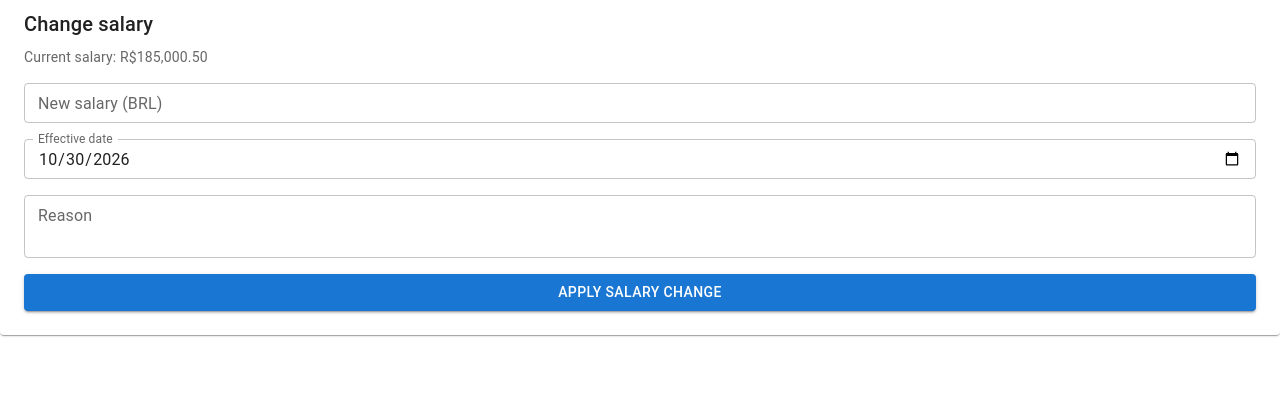
it: SalaryChangeForm › surfaces a server-side 422 on the relevant field
The width and height of the screenshot is (1280, 418).
Type "200000" into the number field labelled "New salary (BRL)" at (640, 103), box [24,83,1256,123]
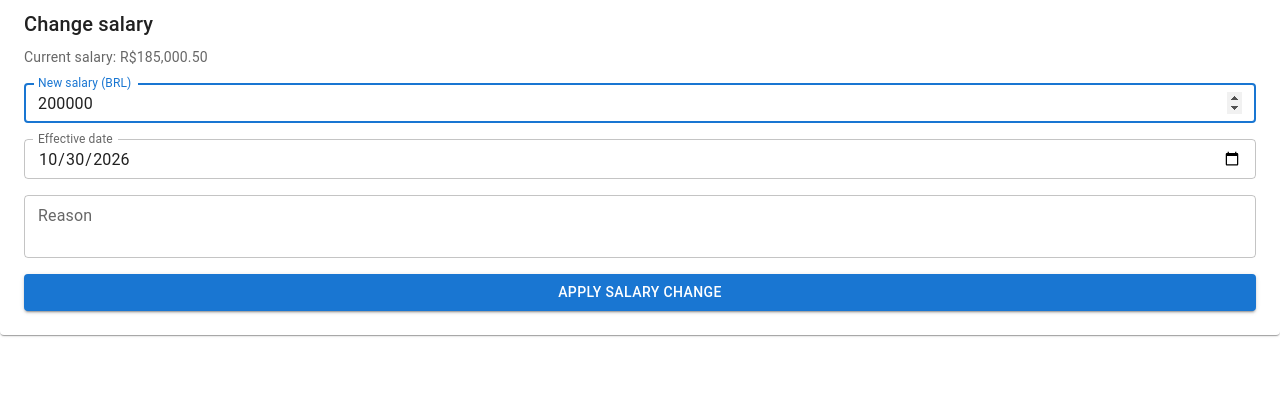
Type "x" into the text box labelled "Reason" at (640, 226), box [38,204,1242,250]
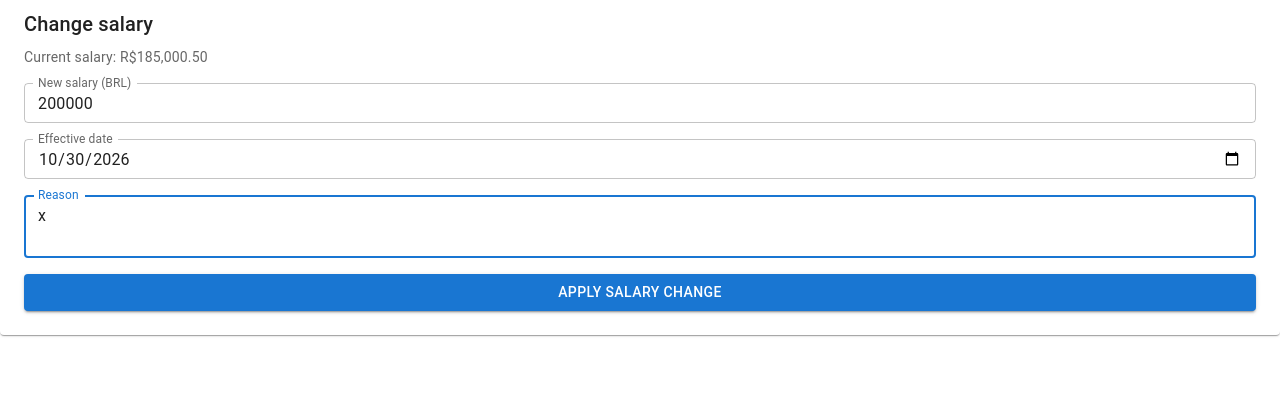
Click the button "Apply salary change" at (640, 292), box [24,274,1256,310]
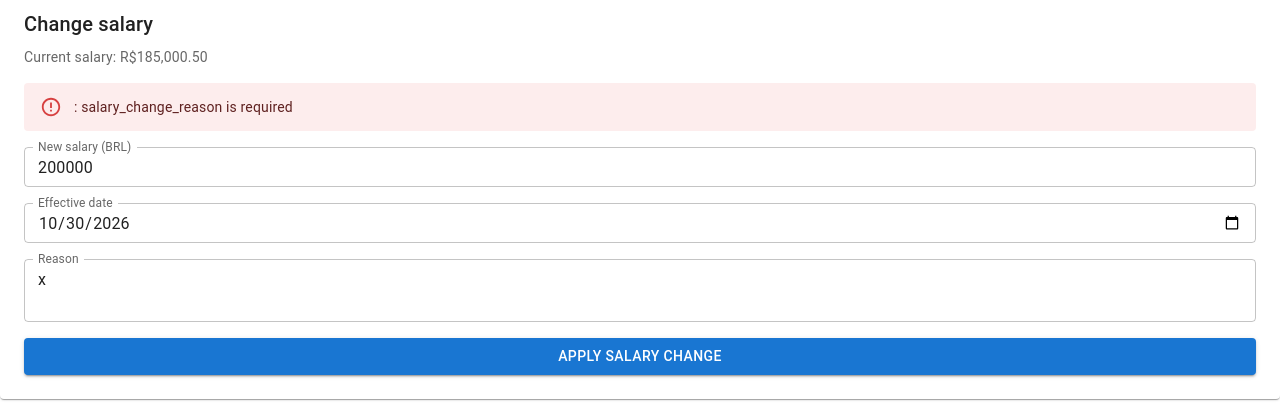
Result: the message shows "salary_change_reason is required" at [74,99,293,115]
